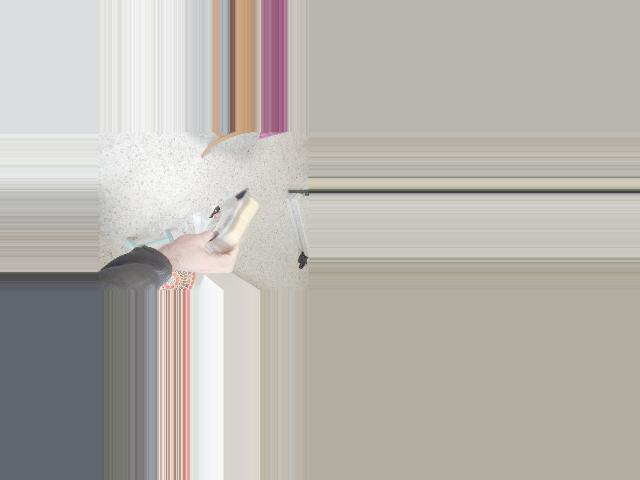cheese: (186, 175, 272, 283)
